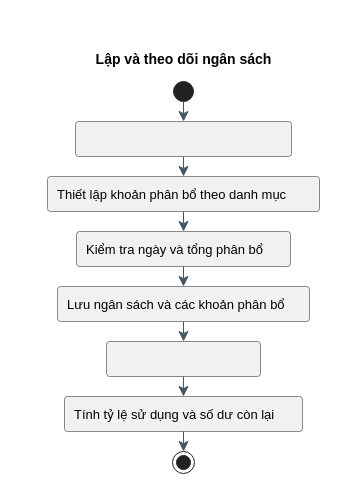
Some shapes in this 337 by 491 pixel diagram are drawn without their labels. Each missing label, with the box of its shape:
Chọn kỳ và hạn mức ngân sách: (75, 121, 291, 156)
Đọc tổng chi trong kỳ: (106, 341, 260, 376)
